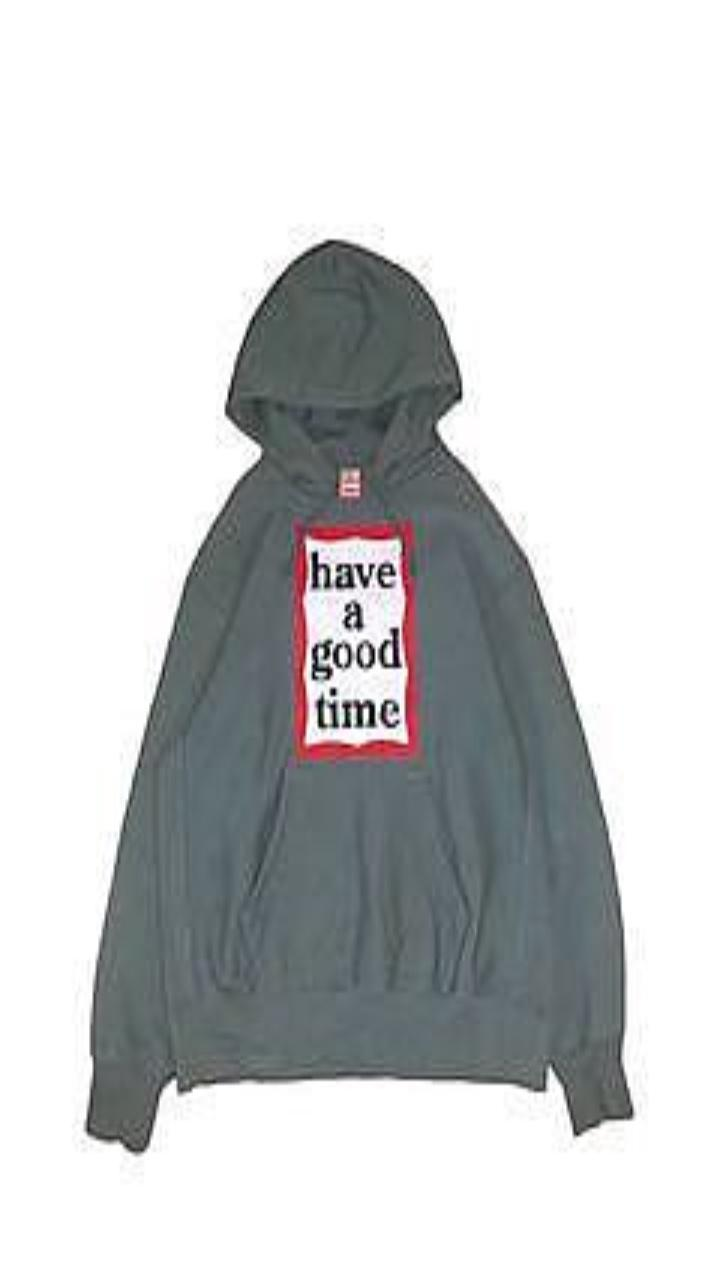Hoodie: (87, 242, 631, 1149)
